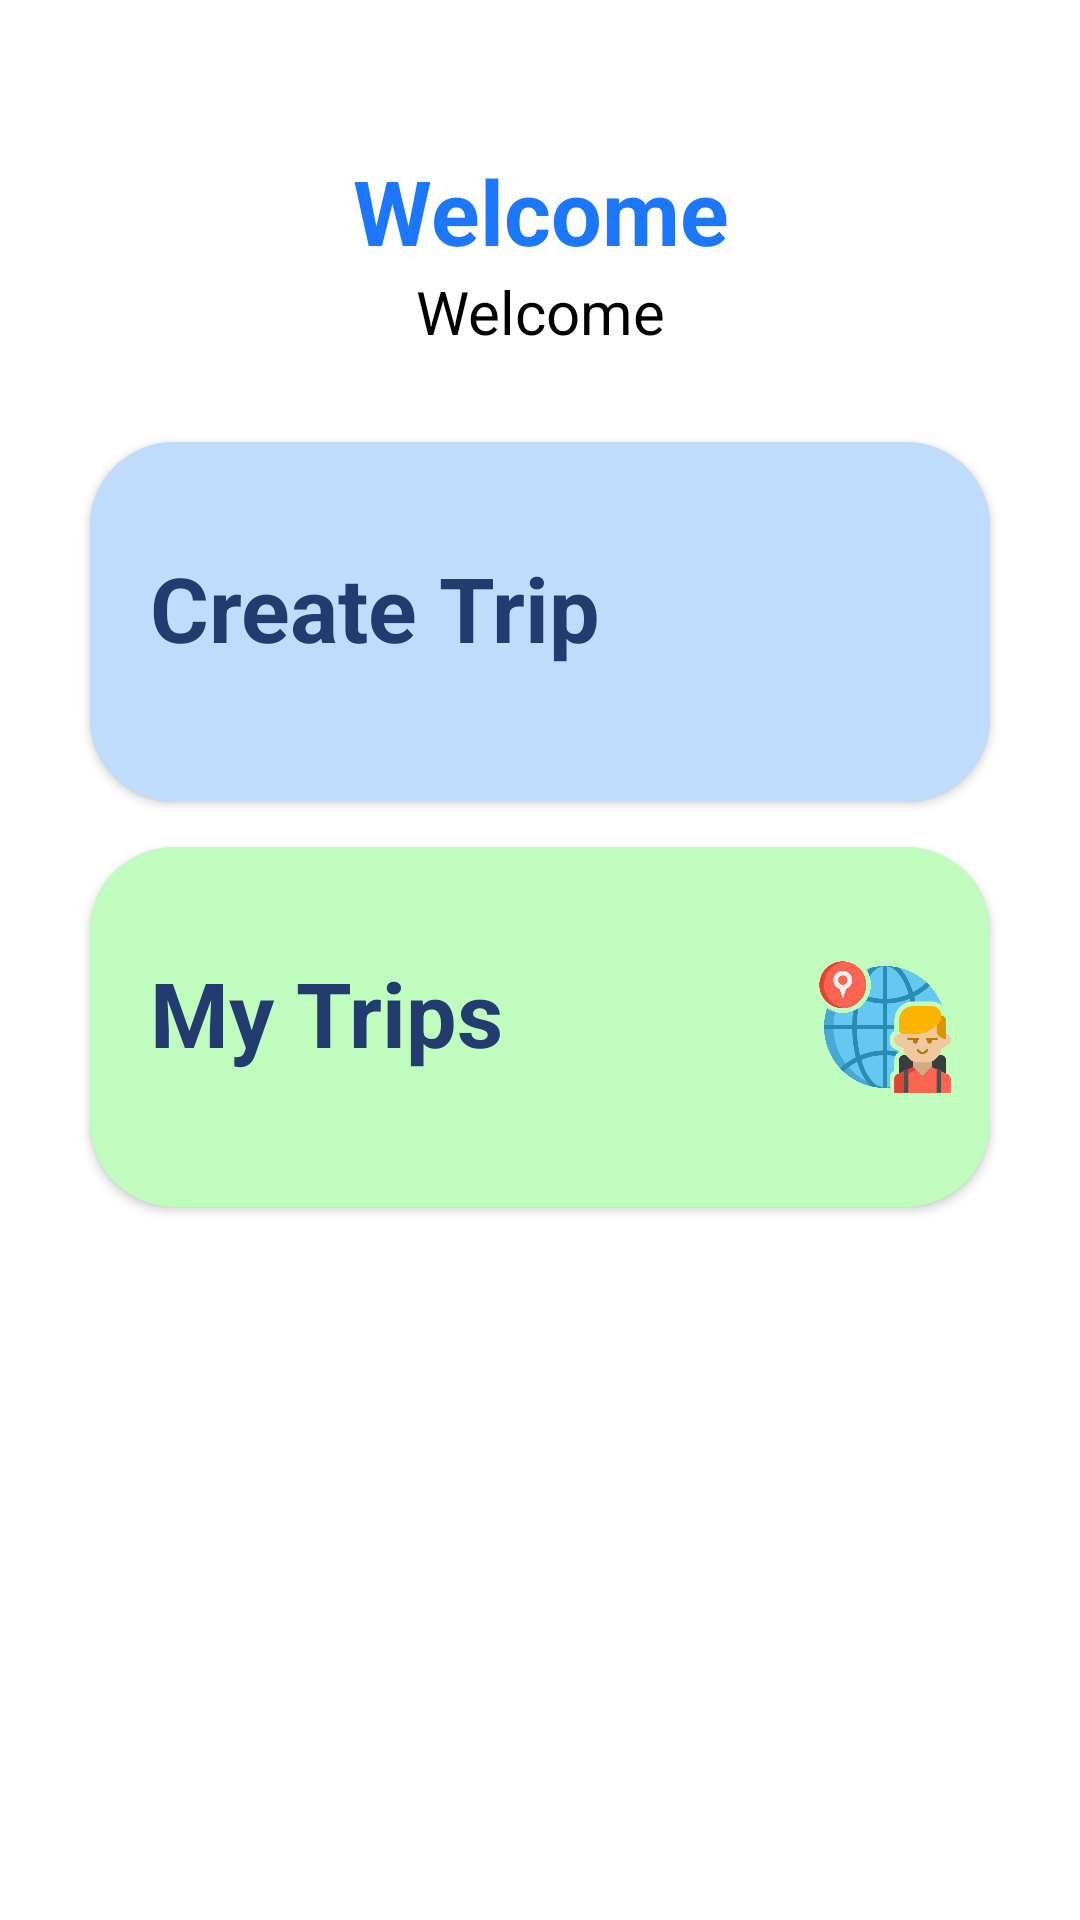

Icon bounding boxes for this 1080 × 1920 phone screenshot, format BBox(x1, y1, x2, y2):
travelerr: BBox(819, 961, 951, 1093)
